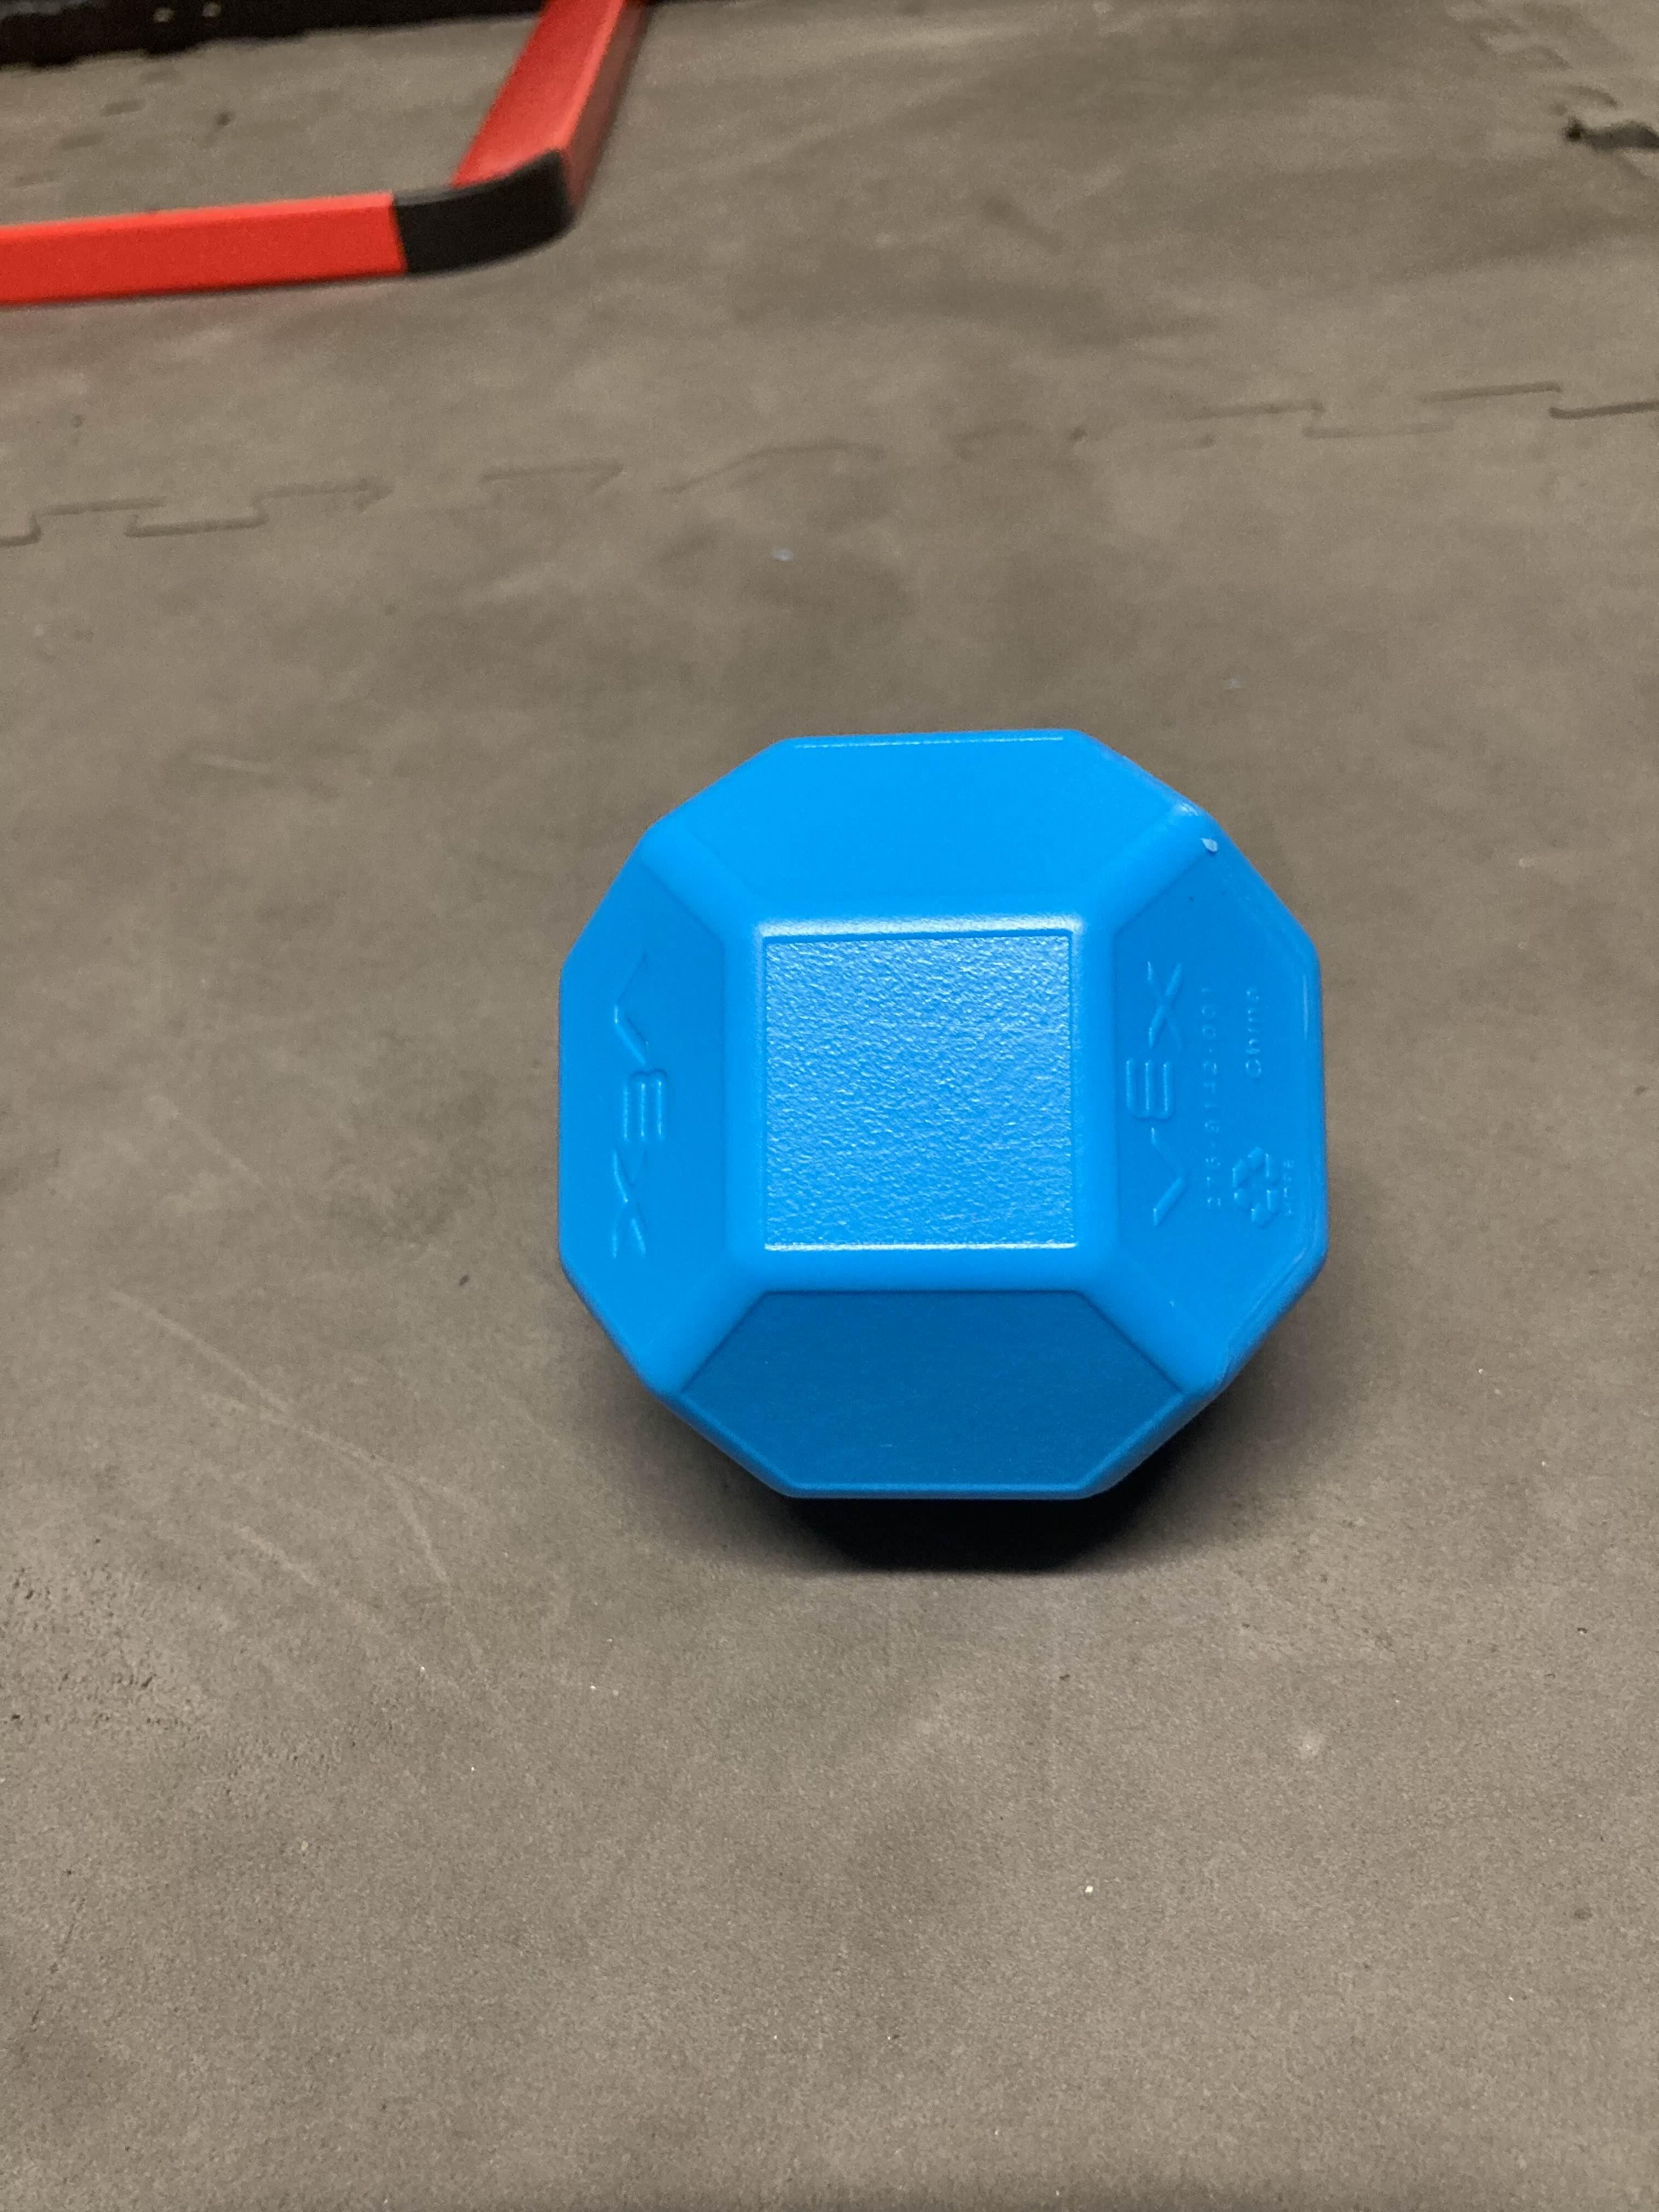Vex-Pieces-BLUE: (556, 728, 1331, 1521)
